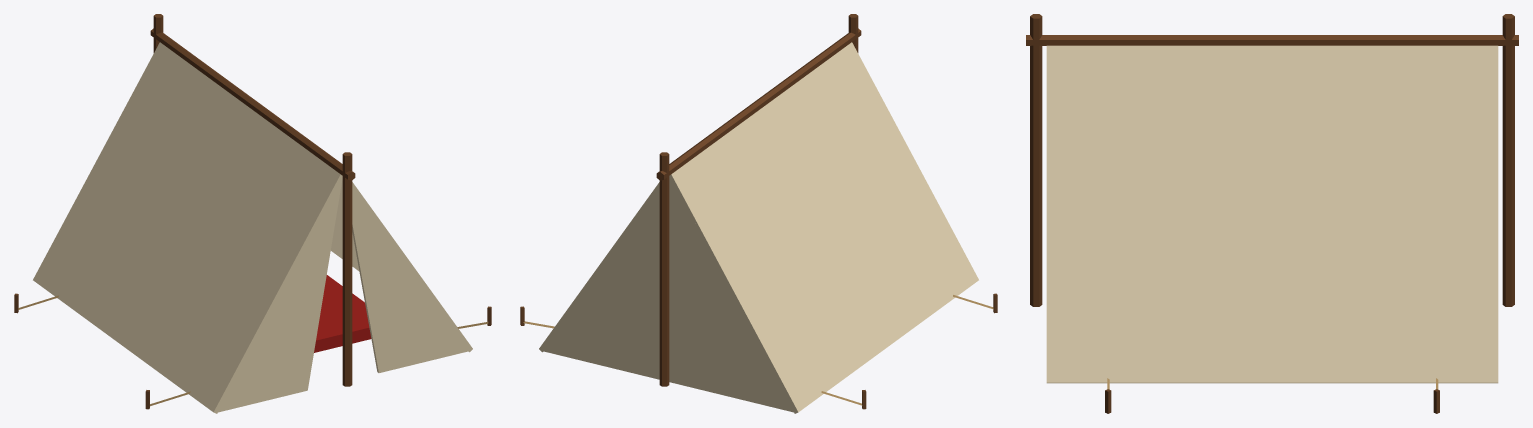
File: SM_Tent.obj
The picture shows the model from 3 angles, left to right: view 1: azimuth 30°, elevation 25°; view 2: azimuth 150°, elevation 25°; view 3: azimuth 270°, elevation 25°; orthographic projection. The views are drawn at different scales.
Parts seen in each view (by area): view 1: SM_Tent; view 2: SM_Tent; view 3: SM_Tent.
Part boxes in pixels (bbox=[...]): SM_Tent: bbox=[14, 14, 491, 413]; SM_Tent: bbox=[520, 14, 997, 413]; SM_Tent: bbox=[1026, 14, 1518, 413].
Size of the model in its own units: 2.43 by 1.57 by 2.4.
